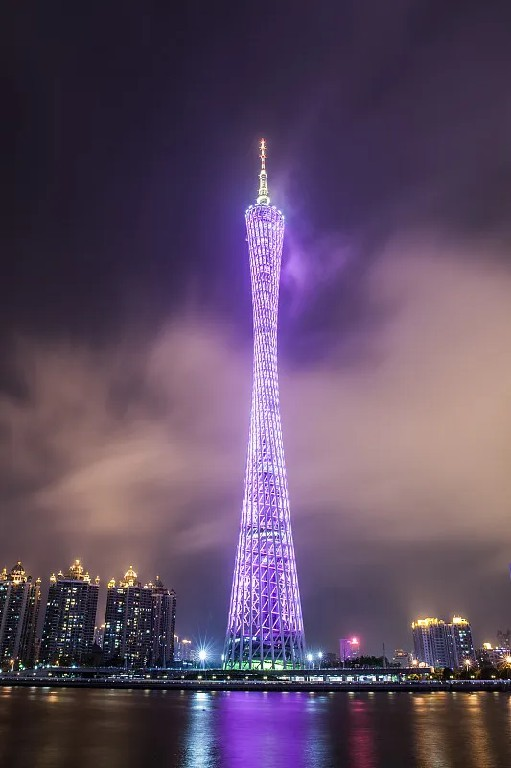Canton: (226, 133, 309, 670)
